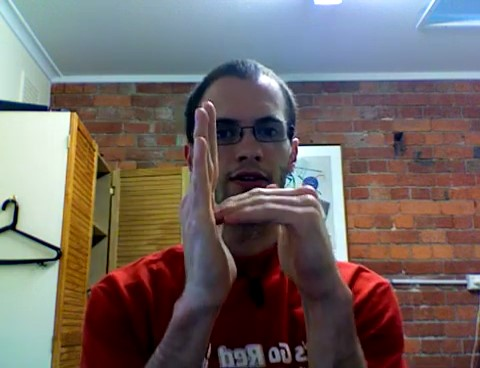Z: (177, 95, 345, 298)
